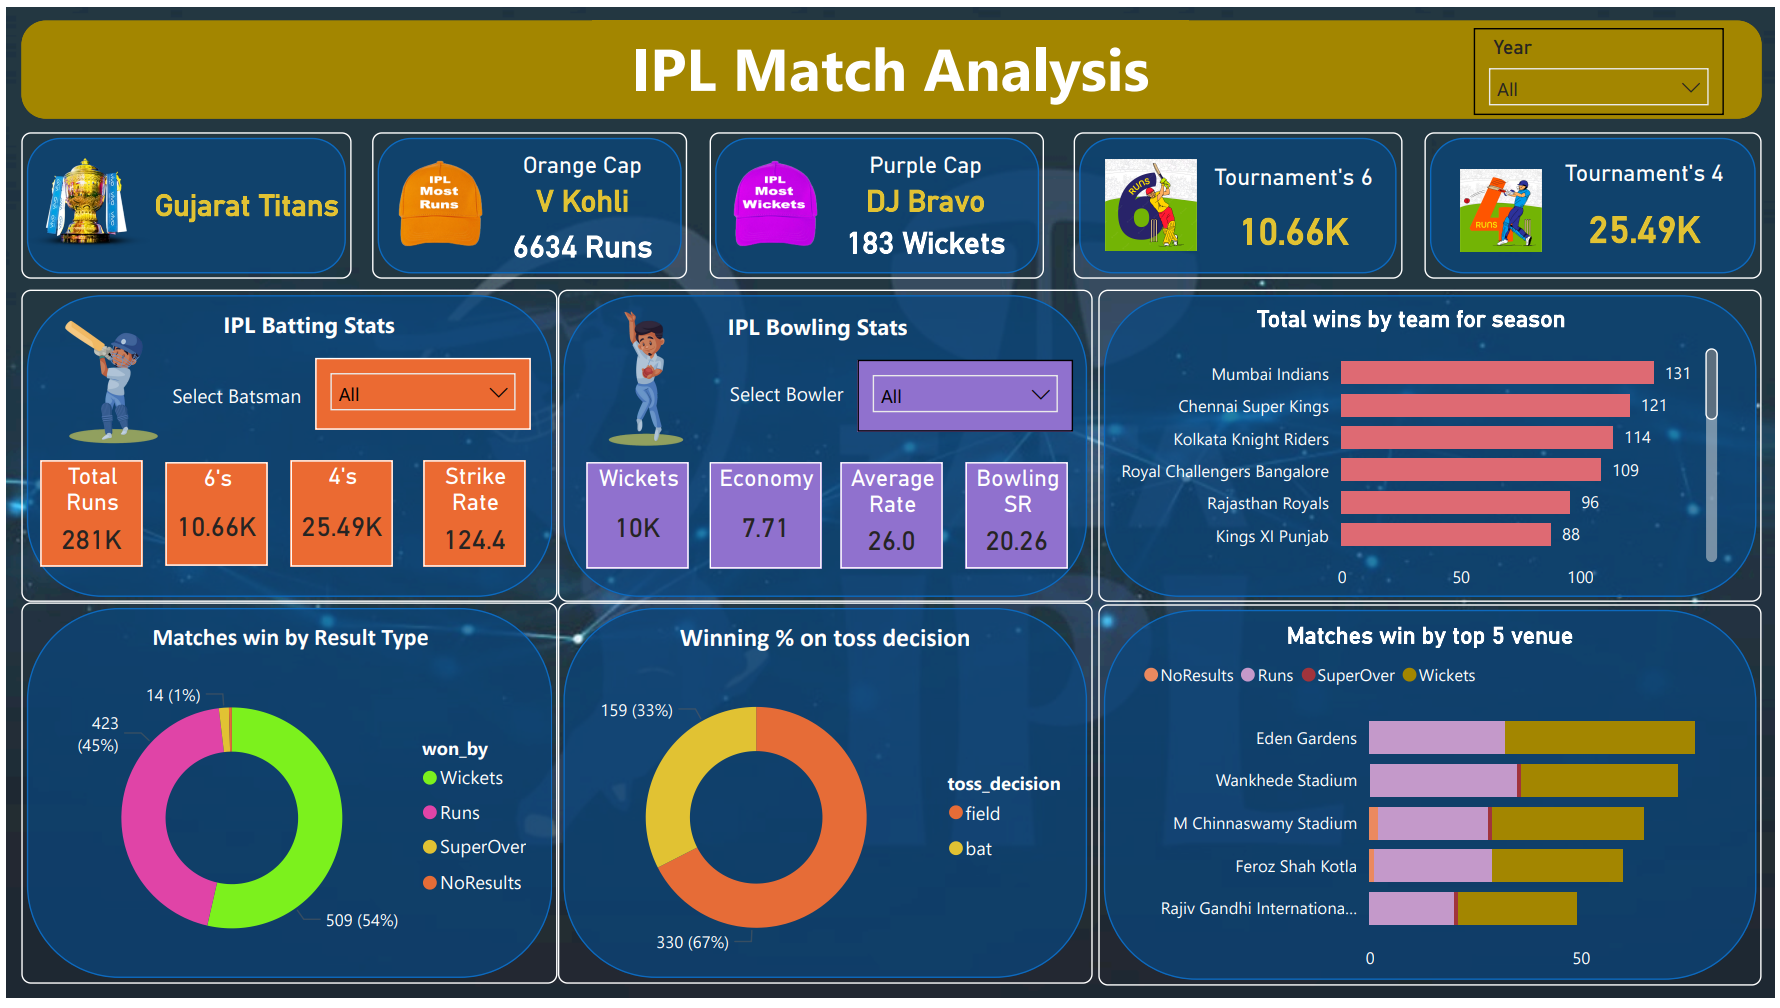

The dashboard page shown, as its layout file describes it:
{"tool":"powerbi","page":{"name":"IPL Match Analysis","canvas":[1280,720],"ordinal":0},"visuals":[{"type":"shape","box":[10.9,9.7,1259.5,71.2],"z":0},{"type":"textbox","box":[424.7,9.7,431.9,67.6],"z":1000},{"type":"shape","box":[10.9,90.5,238.9,106.2],"z":2000},{"type":"card","fields":{"Values":["Calendar Table.Title Winner"]},"box":[98.9,95.3,150.8,96.5],"z":3000},{"type":"slicer","fields":{"Values":["Calendar Table.Year"]},"box":[1061.7,15.7,181,62.7],"z":4000},{"type":"shape","box":[265.4,90.5,228,106.2],"z":5000},{"type":"shape","box":[509.1,90.5,242.5,106.2],"z":6000},{"type":"shape","box":[772.1,90.5,237.7,106.2],"z":7000},{"type":"shape","box":[1026.7,90.5,243.7,106.2],"z":8000},{"type":"image","box":[0,105,119.4,76],"z":9000},{"type":"image","box":[249.7,105,130.3,76],"z":10000},{"type":"image","box":[493.4,105,126.7,76],"z":11000},{"type":"image","box":[790.2,80.8,76,123.1],"z":12000},{"type":"image","box":[1026.7,112.2,111,68.8],"z":13000},{"type":"card","title":"Orange Cap","fields":{"Values":["Min(ipl_ball_by_ball_2008_2022.batter)"]},"box":[341.7,104.3,150.9,52.1],"z":14000},{"type":"card","title":"Purple Cap","fields":{"Values":["Min(ipl_ball_by_ball_2008_2022.bowler)"]},"box":[590.1,104.3,150.9,52.1],"z":15000},{"type":"card","title":"Orange Cap","fields":{"Values":["Calendar Table.Batter Runs"]},"box":[341.7,146.8,150.9,52.1],"z":16000},{"type":"card","title":"Purple Cap","fields":{"Values":["Calendar Table.Bowler Wickets"]},"box":[590.1,144.1,150.9,52.1],"z":17000},{"type":"card","title":"Tournament''s 6","fields":{"Values":["CountNonNull(ipl_ball_by_ball_2008_2022.batsman_run)"]},"box":[856.3,112.5,150.9,78.2],"z":18000},{"type":"shape","box":[11,204.5,388.3,226.4],"z":19000},{"type":"card","title":"Tournament''s 4","fields":{"Values":["CountNonNull(ipl_ball_by_ball_2008_2022.batsman_run)"]},"box":[1110.1,109.8,150.9,81],"z":20000},{"type":"shape","box":[399.3,204.5,387,226.4],"z":21000},{"type":"shape","box":[11,430.9,388.3,275.8],"z":22000},{"type":"shape","box":[399.3,430.9,387,275.8],"z":23000},{"type":"shape","box":[790.4,204.5,480.3,226.4],"z":24000},{"type":"shape","box":[790.4,432.2,480.3,275.8],"z":25000},{"type":"slicer","fields":{"Values":["ipl_ball_by_ball_2008_2022.batter"]},"box":[223.7,253.9,156.4,52.1],"z":26000},{"type":"textbox","box":[152.3,214.1,149.6,39.8],"z":27000},{"type":"textbox","box":[517.3,215.4,149.6,39.8],"z":28000},{"type":"textbox","box":[115.3,266.2,149.6,39.8],"z":29000},{"type":"slicer","fields":{"Values":["ipl_ball_by_ball_2008_2022.bowler"]},"box":[616.1,255.2,156.4,52.1],"z":30000},{"type":"textbox","box":[518.7,264.8,149.6,39.8],"z":31000},{"type":"image","box":[0,196.2,152.3,150.9],"z":32000},{"type":"image","box":[380.1,190.7,166,156.4],"z":33000},{"type":"card","title":"Total Runs","fields":{"Values":["Sum(ipl_ball_by_ball_2008_2022.batsman_run)"]},"box":[24.7,328,74.1,76.8],"z":34000},{"type":"card","title":"6''s","fields":{"Values":["CountNonNull(ipl_ball_by_ball_2008_2022.batsman_run)"]},"box":[115.3,329.3,74.1,75.5],"z":35000},{"type":"card","title":"4''s","fields":{"Values":["CountNonNull(ipl_ball_by_ball_2008_2022.batsman_run)"]},"box":[205.8,328,74.1,76.8],"z":36000},{"type":"card","title":"Strike Rate","fields":{"Values":["Calendar Table.Strike Rate"]},"box":[301.9,328,74.1,76.8],"z":37000},{"type":"card","title":"Wickets","fields":{"Values":["Sum(ipl_ball_by_ball_2008_2022.iswicket_delivery)"]},"box":[419.9,329.3,74.1,76.8],"z":37001},{"type":"card","title":"Economy","fields":{"Values":["Calendar Table.Economy"]},"box":[509.1,329.3,81,76.8],"z":37002},{"type":"card","title":"Average Rate","fields":{"Values":["Calendar Table.Average Rate"]},"box":[603.8,329.3,74.1,76.8],"z":37003},{"type":"card","title":"Bowling SR","fields":{"Values":["Calendar Table.Bowling SR"]},"box":[694.3,329.3,74.1,76.8],"z":37004},{"type":"barChart","title":"Matches win by venu","fields":{"Category":["ipl_matches_2008_2022.venue"],"Y":["CountNonNull(ipl_matches_2008_2022.id)"],"Series":["ipl_matches_2008_2022.won_by"]},"box":[817.8,444.6,425.4,262.1],"z":37006},{"type":"donutChart","title":"Matches win by Result Type","fields":{"Y":["CountNonNull(ipl_matches_2008_2022.id)"],"Category":["ipl_matches_2008_2022.won_by"]},"box":[20.6,444.6,370.5,262.1],"z":37007},{"type":"barChart","title":"Total wins by team for season","fields":{"Category":["ipl_matches_2008_2022.winning_team"],"Y":["CountNonNull(ipl_matches_2008_2022.winning_team)"]},"box":[790.4,215.4,452.8,215.4],"z":37008},{"type":"donutChart","title":"Winning % on toss decision","fields":{"Category":["ipl_matches_2008_2022.toss_decision"],"Y":["Calendar Table.Matches win on toss decision"]},"box":[399.3,444.6,387,262.1],"z":37009}]}

Visuals, with their boxes in screenshot pixels (x1, y1, x2, y2), scaled from the page's 1280x720 canvas onto the 1780x1008 screenshot:
shape: 15:14:1767:113
textbox: 591:14:1191:108
shape: 15:127:347:275
card - Calendar Table.Title Winner: 138:133:347:269
slicer - Calendar Table.Year: 1476:22:1728:110
shape: 369:127:686:275
shape: 708:127:1045:275
shape: 1074:127:1404:275
shape: 1428:127:1767:275
image: 0:147:166:253
image: 347:147:528:253
image: 686:147:862:253
image: 1099:113:1205:285
image: 1428:157:1582:253
"Orange Cap" card: 475:146:685:219
"Purple Cap" card: 821:146:1030:219
"Orange Cap" card: 475:206:685:278
"Purple Cap" card: 821:202:1030:275
"Tournament''s 6" card: 1191:158:1401:267
shape: 15:286:555:603
"Tournament''s 4" card: 1544:154:1754:267
shape: 555:286:1093:603
shape: 15:603:555:989
shape: 555:603:1093:989
shape: 1099:286:1767:603
shape: 1099:605:1767:991
slicer - ipl_ball_by_ball_2008_2022.batter: 311:355:529:428
textbox: 212:300:420:355
textbox: 719:302:927:357
textbox: 160:373:368:428
slicer - ipl_ball_by_ball_2008_2022.bowler: 857:357:1074:430
textbox: 721:371:929:426
image: 0:275:212:486
image: 529:267:759:486
"Total Runs" card: 34:459:137:567
"6''s" card: 160:461:263:567
"4''s" card: 286:459:389:567
"Strike Rate" card: 420:459:523:567
"Wickets" card: 584:461:687:569
"Economy" card: 708:461:821:569
"Average Rate" card: 840:461:943:569
"Bowling SR" card: 966:461:1069:569
"Matches win by venu" barChart: 1137:622:1729:989
"Matches win by Result Type" donutChart: 29:622:544:989
"Total wins by team for season" barChart: 1099:302:1729:603
"Winning % on toss decision" donutChart: 555:622:1093:989
